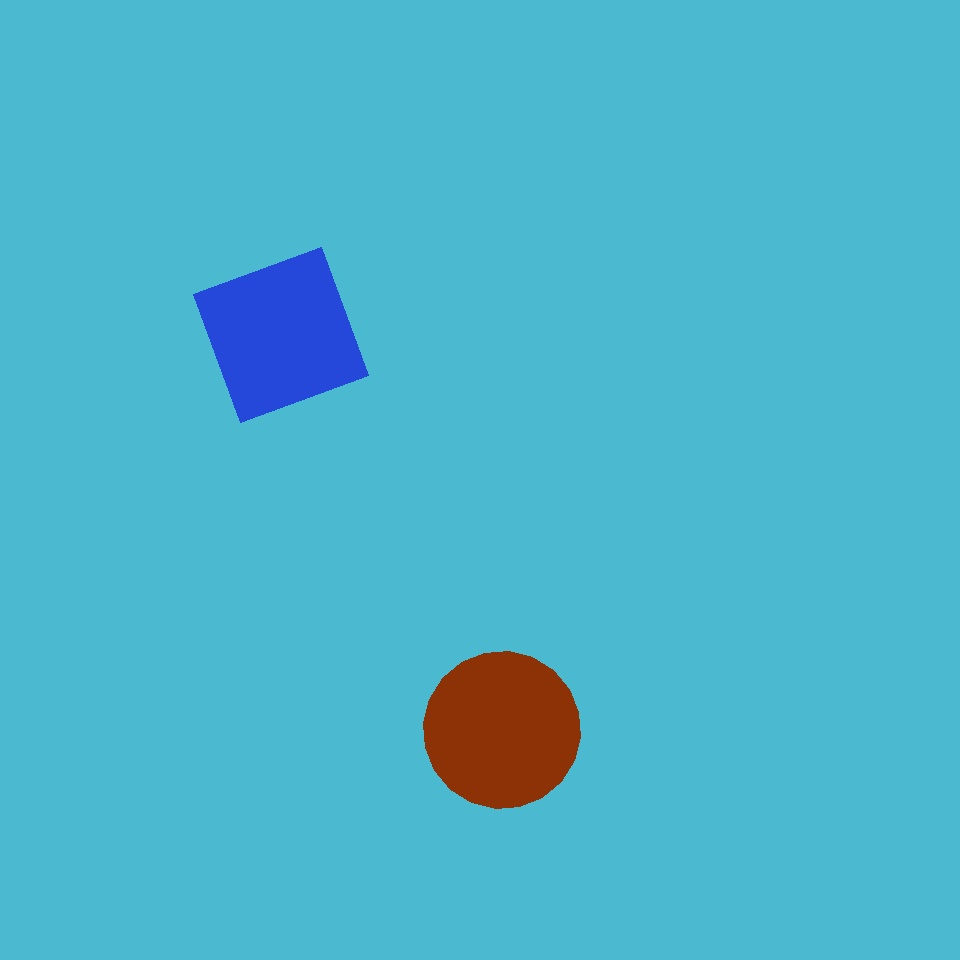square: (194, 248, 368, 422), (681, 26, 767, 112)
triangle: (424, 652, 580, 808), (99, 158, 197, 256)
